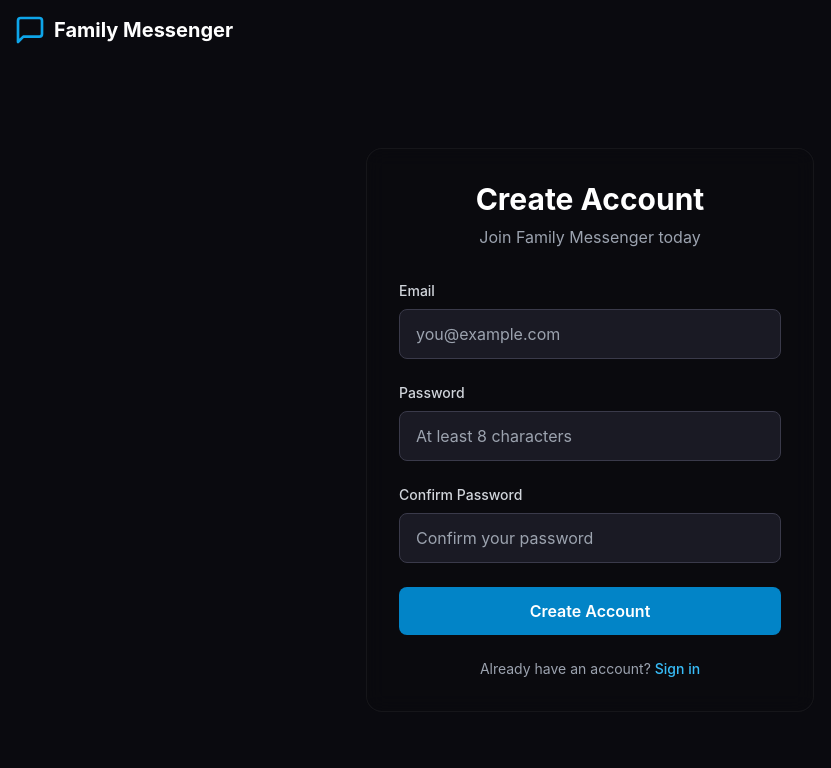
Test: Signup Page › shows error when passwords do not match
Type "test@example.com" into the field labelled "Email". click: (590, 334)
box: [399,309,781,359]
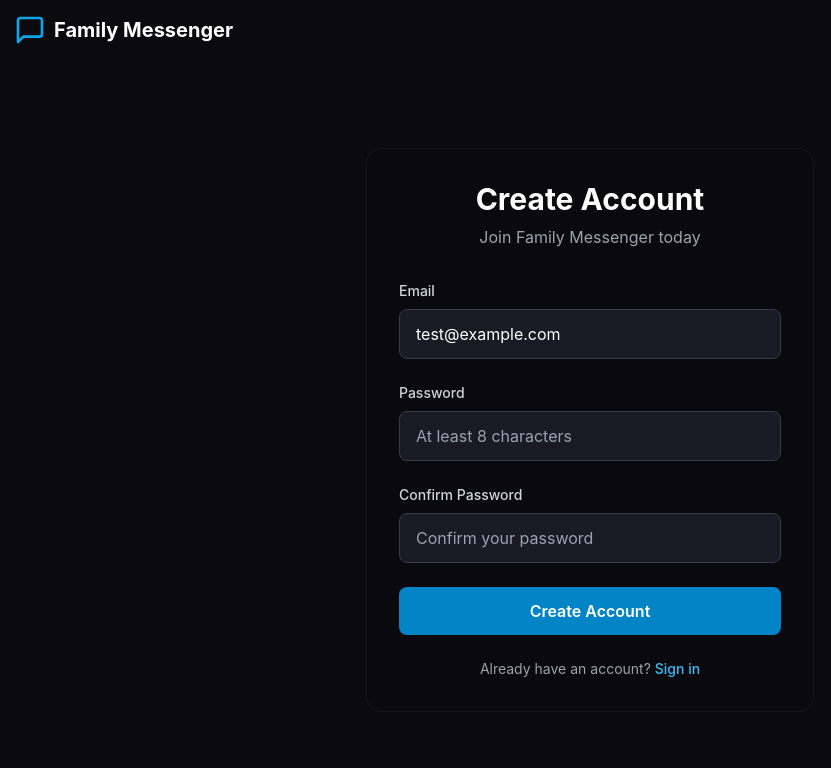
Type "Password123" into the password field labelled "Password". click: (590, 436)
box: [399,411,781,461]
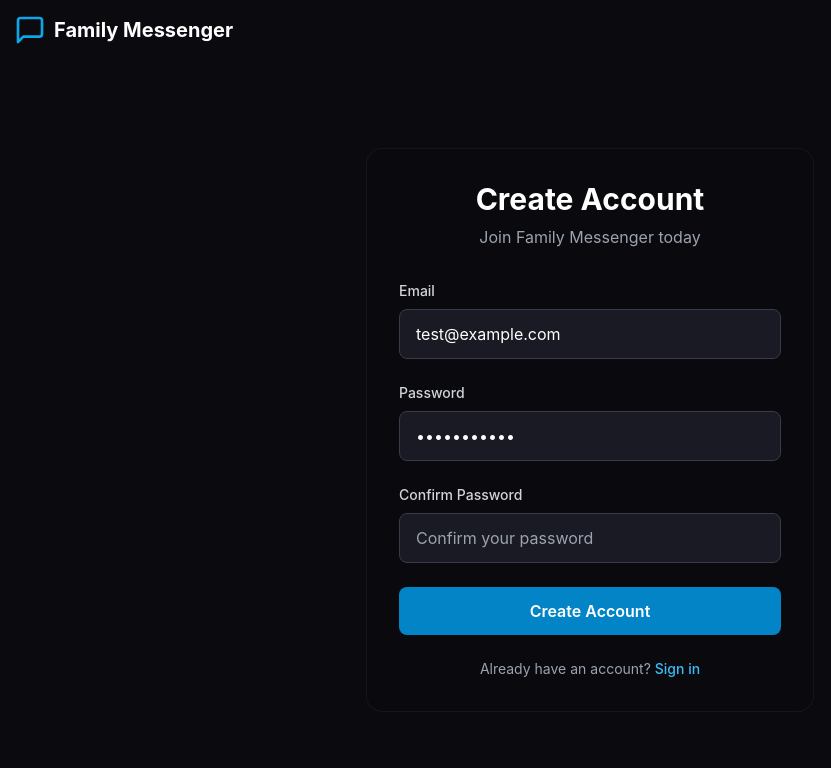
Type "DifferentPassword" into the password field labelled "Confirm Password". click: (590, 538)
box: [399,513,781,563]
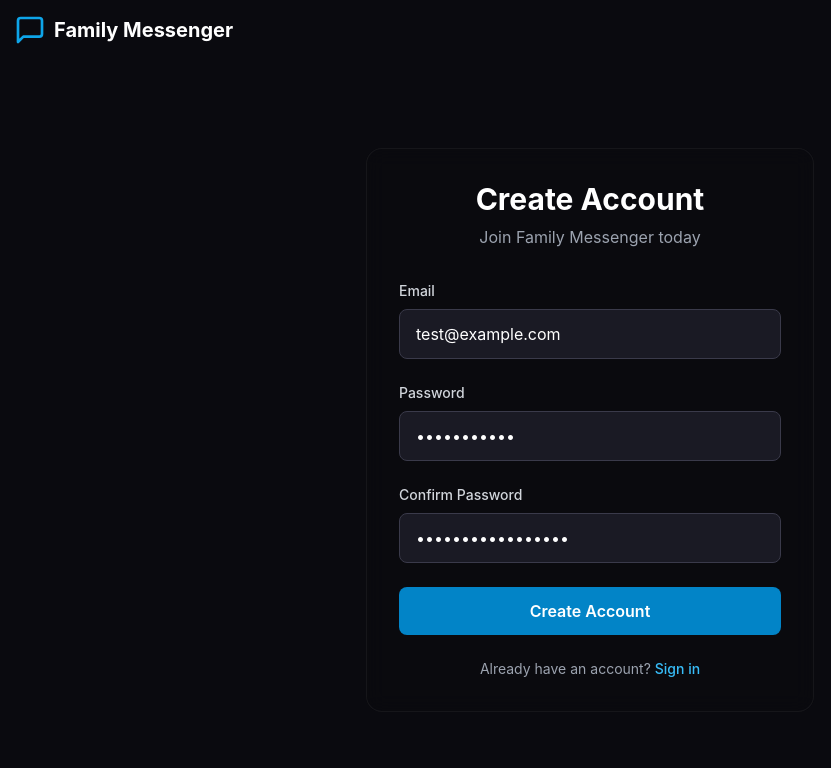
Click the button "Create Account". click: (590, 611)
box: [399,587,781,635]
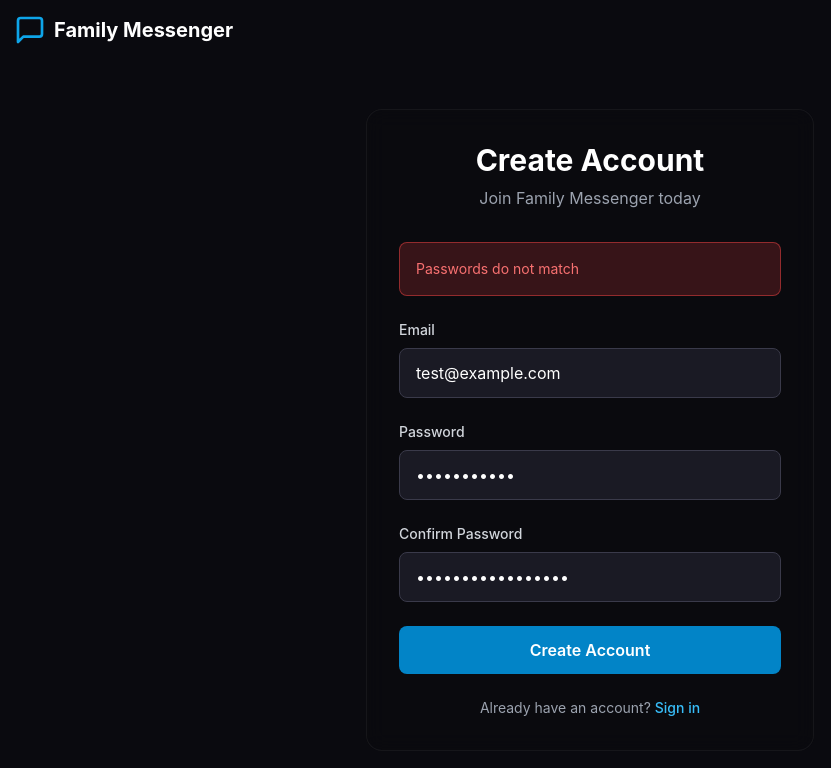
Check: the text "Passwords do not match" is shown, box [399,242,781,296]
